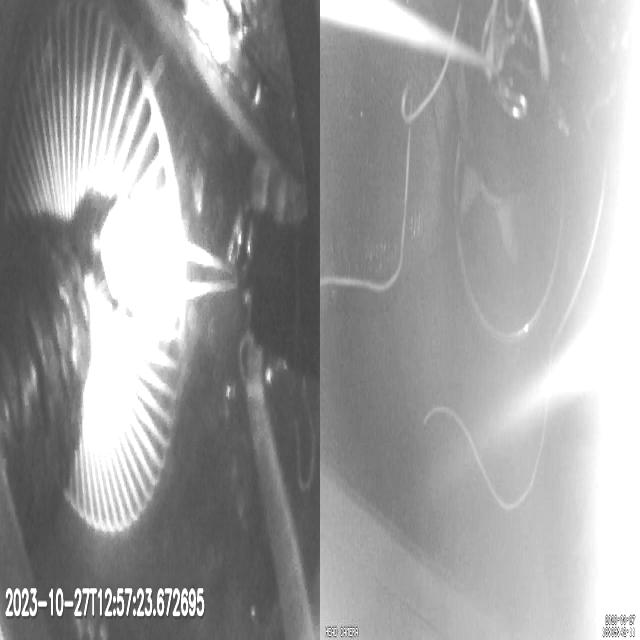head: (104, 195, 184, 333)
